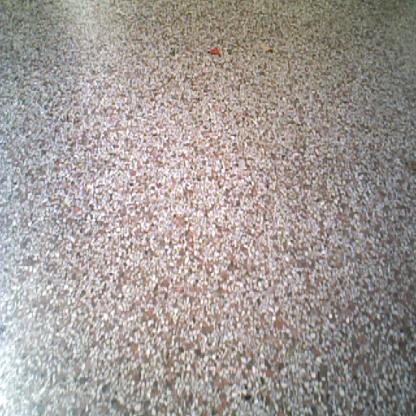dirty: (206, 46, 221, 57), (259, 42, 273, 53)
